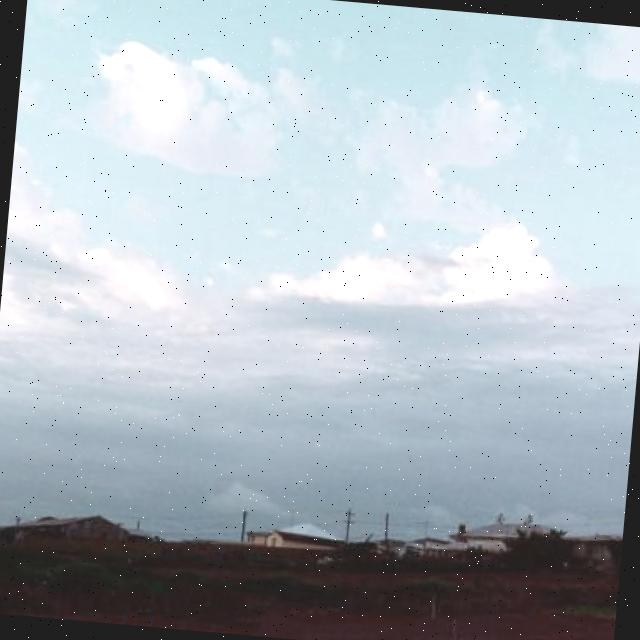Sc: (1, 134, 640, 479)
